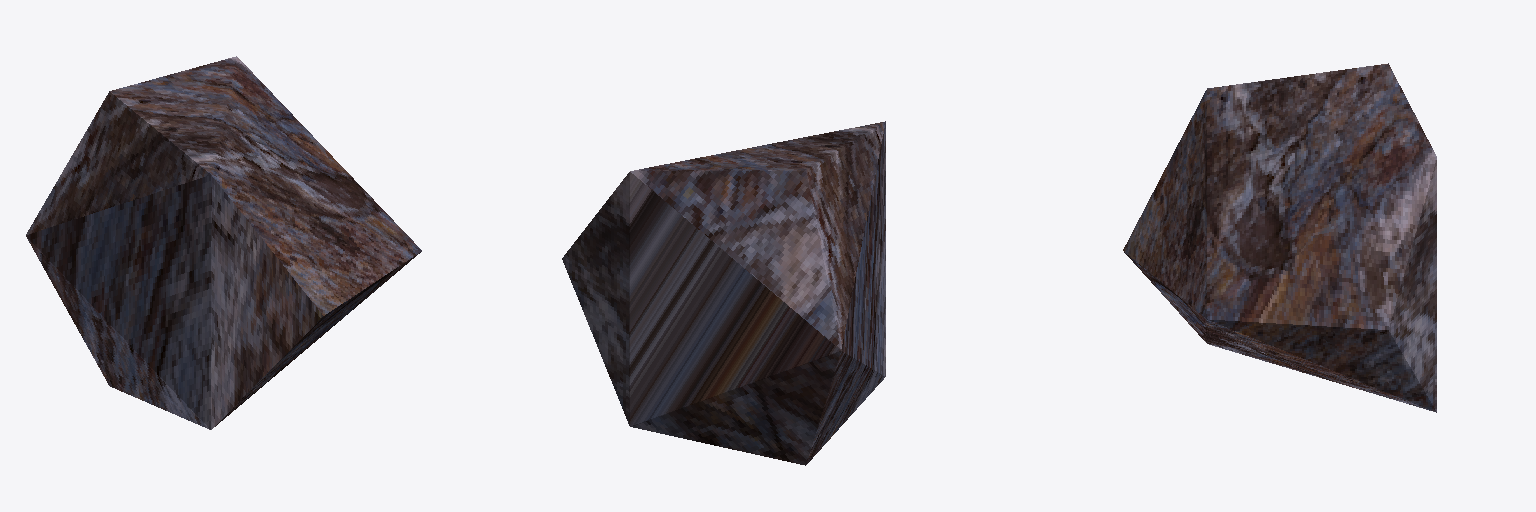
3 renders of one model, left to right at view 1: azimuth 30°, elevation 25°; view 2: azimuth 150°, elevation 25°; view 3: azimuth 270°, elevation 25°, orthographic.
Visible parts, largest first — view 1: obj1; view 2: obj1; view 3: obj1.
Part boxes in pixels (bbox=[...]): obj1: bbox=[26, 56, 421, 429]; obj1: bbox=[562, 121, 885, 465]; obj1: bbox=[1123, 63, 1436, 412].
Size of the model in its own units: 8.8 by 8.16 by 7.89.
Materials: 1 (1 with a texture image).